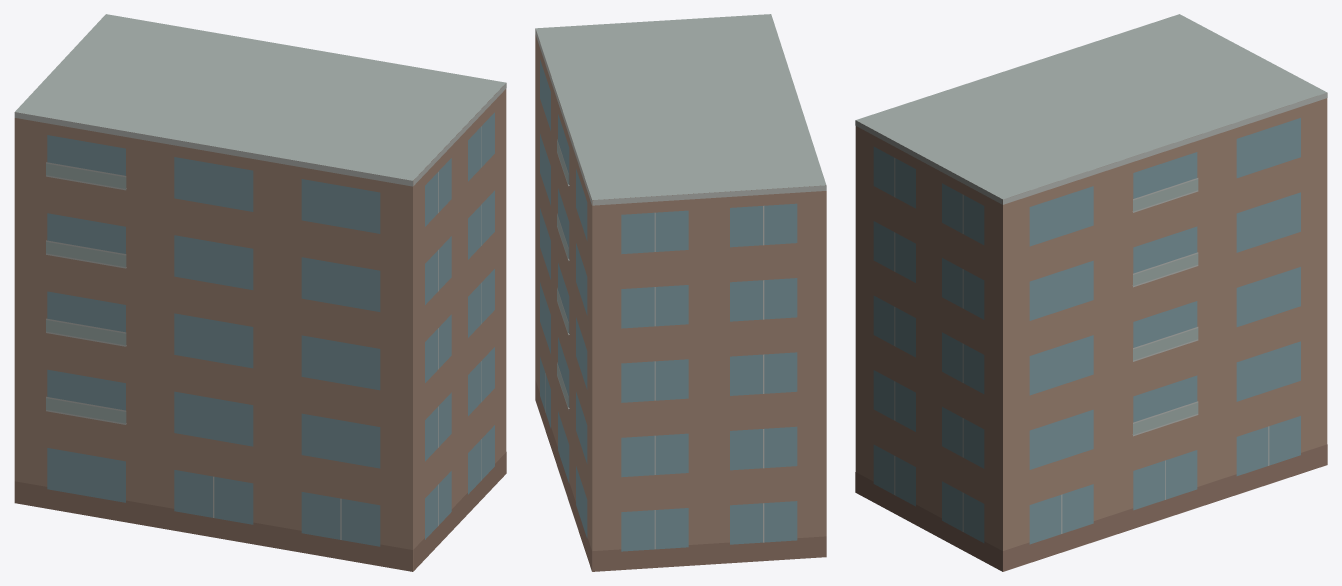
Rendered from survey-upis-32712107.glb.
The picture shows the model from 3 angles, left to right: view 1: azimuth 30°, elevation 25°; view 2: azimuth 150°, elevation 25°; view 3: azimuth 270°, elevation 25°; orthographic projection. The views are drawn at different scales.
Visible parts, largest first — view 1: survey-upis-32712107.tmp; view 2: survey-upis-32712107.tmp; view 3: survey-upis-32712107.tmp.
Part boxes in pixels (left/top/right/bottom): survey-upis-32712107.tmp: left=14, top=14, right=506, bottom=571; survey-upis-32712107.tmp: left=535, top=14, right=826, bottom=571; survey-upis-32712107.tmp: left=855, top=14, right=1327, bottom=571.
Size of the model in its own units: 17.68 by 16.55 by 19.01.
